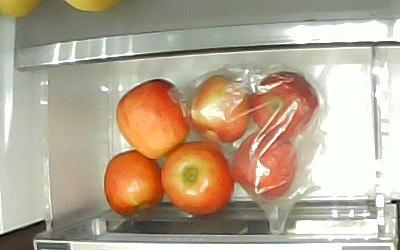apple: (114, 77, 192, 159), (159, 140, 234, 215), (102, 148, 164, 217)
apple_vinyl: (229, 127, 297, 200), (183, 73, 251, 144), (249, 70, 319, 137)
